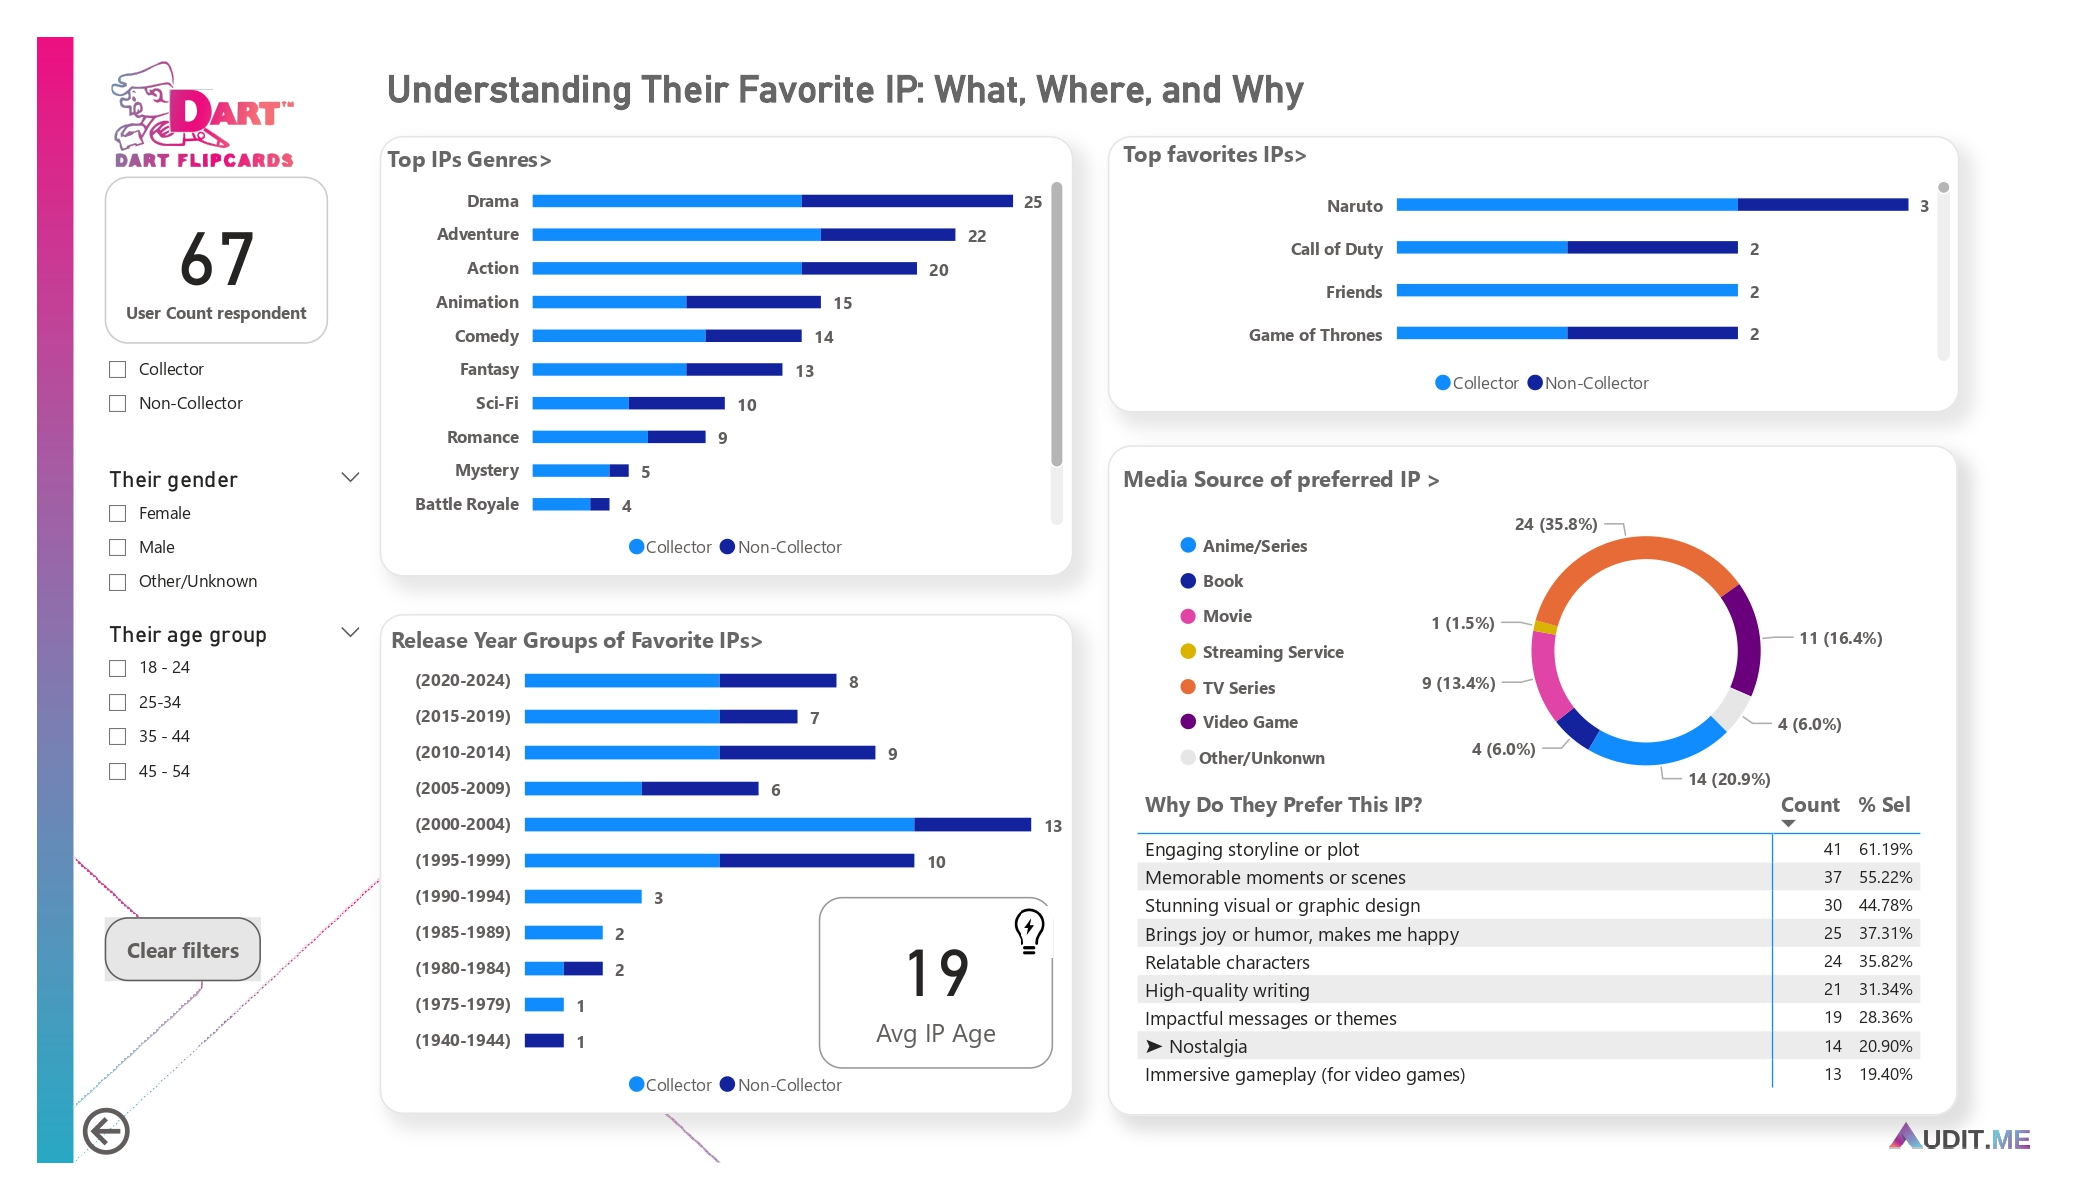

What the dashboard file says about the page in this screenshot:
{"tool":"powerbi","page":{"name":"Where/What/Why that IP","canvas":[1280,720],"ordinal":1},"visuals":[{"type":"shape","box":[685,261.2,543.8,428.8],"z":0},{"type":"slicer","fields":{"Values":["Raw Data-Original.Gender"]},"box":[32.5,270,186.2,98.8],"z":1000},{"type":"slicer","fields":{"Values":["Raw Data-Original.Q2-Age Group"]},"box":[32.5,368.8,186.2,116.2],"z":2000},{"type":"slicer","fields":{"Values":["Raw Data-Original.Collector habits"]},"box":[32.5,196.2,186.2,73.8],"z":3000},{"type":"actionButton","box":[23.8,680,100,40],"z":4000},{"type":"card","fields":{"Values":["Raw Data-Original.User Count respondent"]},"box":[42.5,89.5,143.8,106.2],"z":5000},{"type":"textbox","box":[690,267.5,433.8,31.2],"z":6000},{"type":"image","box":[1180,683.8,100,36.2],"z":7000},{"type":"textbox","box":[218.8,13.8,632.5,45],"z":8000},{"type":"image","box":[0,0,210,97.5],"z":9000},{"type":"pivotTable","fields":{"Rows":["Why IP.Why IP"],"Values":["Why IP.Count Why of IP","Why IP-data.IP %"]},"box":[698.8,476.2,518.8,206.2],"z":10000},{"type":"barChart","fields":{"Category":["Raw Data-Original.Q7-IP-Release date"],"Y":["CountNonNull(Raw Data-Original.Q7-IP-Release date)"],"Series":["Raw Data-Original.Collector habits"]},"box":[218.8,368.8,443.8,320],"z":11000},{"type":"barChart","fields":{"Category":["IPTypes.Type"],"Y":["IPTypes.Count Yes by IP"],"Series":["Raw Data-Original.Collector habits"]},"box":[218.8,62.5,443.8,282.5],"z":12000},{"type":"textbox","box":[221.4,371.4,353.6,31],"z":13000},{"type":"barChart","fields":{"Category":["Raw Data-Original.Q7-Favorite IP"],"Series":["Raw Data-Original.Collector habits"],"Y":["Raw Data-Original.Name IP Count2"]},"box":[685,62.5,545,177.5],"z":14000},{"type":"textbox","box":[219,63.1,353.6,32.1],"z":15000},{"type":"textbox","box":[690,60,433.8,31.2],"z":16000},{"type":"donutChart","fields":{"Series":["Raw Data-Original.Q7-Type of IP"],"Y":["Raw Data-Original.Favorite IP Source2"]},"box":[711.1,292.2,506.7,201.1],"z":17000},{"type":"actionButton","box":[42.5,562.5,100,41.2],"z":18000},{"type":"card","fields":{"Values":["Raw Data-Original.Avg IP Age"]},"box":[500,550,150,110],"z":19000},{"type":"image","box":[608.6,551.4,50,42.9],"z":20000}]}

Visuals, with their boxes on the page's 1280x720 design canvas (x1, y1, x2, y2). These are canvas units, not pixel positions in the 2075x1200 screenshot, which may show the page scaled, cropped or inside an application window:
shape: [685, 261, 1229, 690]
slicer - Raw Data-Original.Gender: [32, 270, 219, 369]
slicer - Raw Data-Original.Q2-Age Group: [32, 369, 219, 485]
slicer - Raw Data-Original.Collector habits: [32, 196, 219, 270]
actionButton: [24, 680, 124, 720]
card - Raw Data-Original.User Count respondent: [42, 90, 186, 196]
textbox: [690, 268, 1124, 299]
image: [1180, 684, 1280, 720]
textbox: [219, 14, 851, 59]
image: [0, 0, 210, 98]
pivotTable - Why IP.Why IP x Why IP.Count Why of IP: [699, 476, 1218, 682]
barChart - Raw Data-Original.Q7-IP-Release date x CountNonNull(Raw Data-Original.Q7-IP-Release date): [219, 369, 663, 689]
barChart - IPTypes.Type x IPTypes.Count Yes by IP: [219, 62, 663, 345]
textbox: [221, 371, 575, 402]
barChart - Raw Data-Original.Q7-Favorite IP x Raw Data-Original.Collector habits: [685, 62, 1230, 240]
textbox: [219, 63, 573, 95]
textbox: [690, 60, 1124, 91]
donutChart - Raw Data-Original.Q7-Type of IP x Raw Data-Original.Favorite IP Source2: [711, 292, 1218, 493]
actionButton: [42, 562, 142, 604]
card - Raw Data-Original.Avg IP Age: [500, 550, 650, 660]
image: [609, 551, 659, 594]
